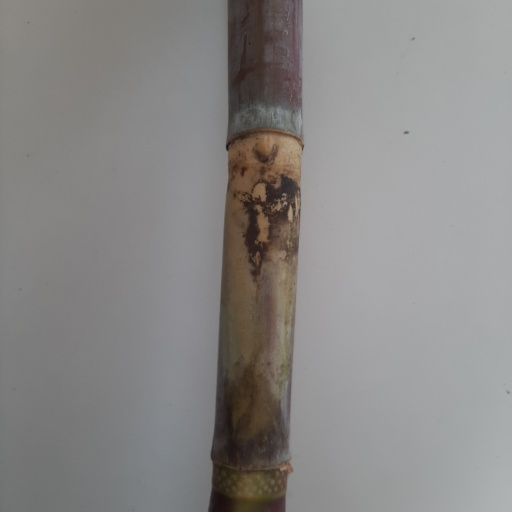Bud: (253, 132, 277, 163)
